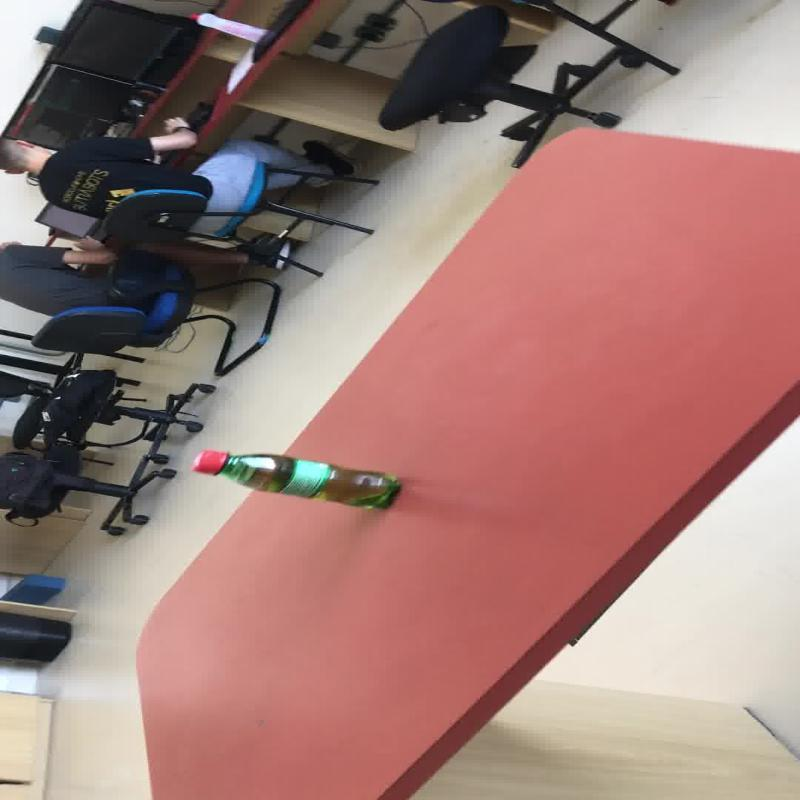guarana: (189, 448, 401, 510)
